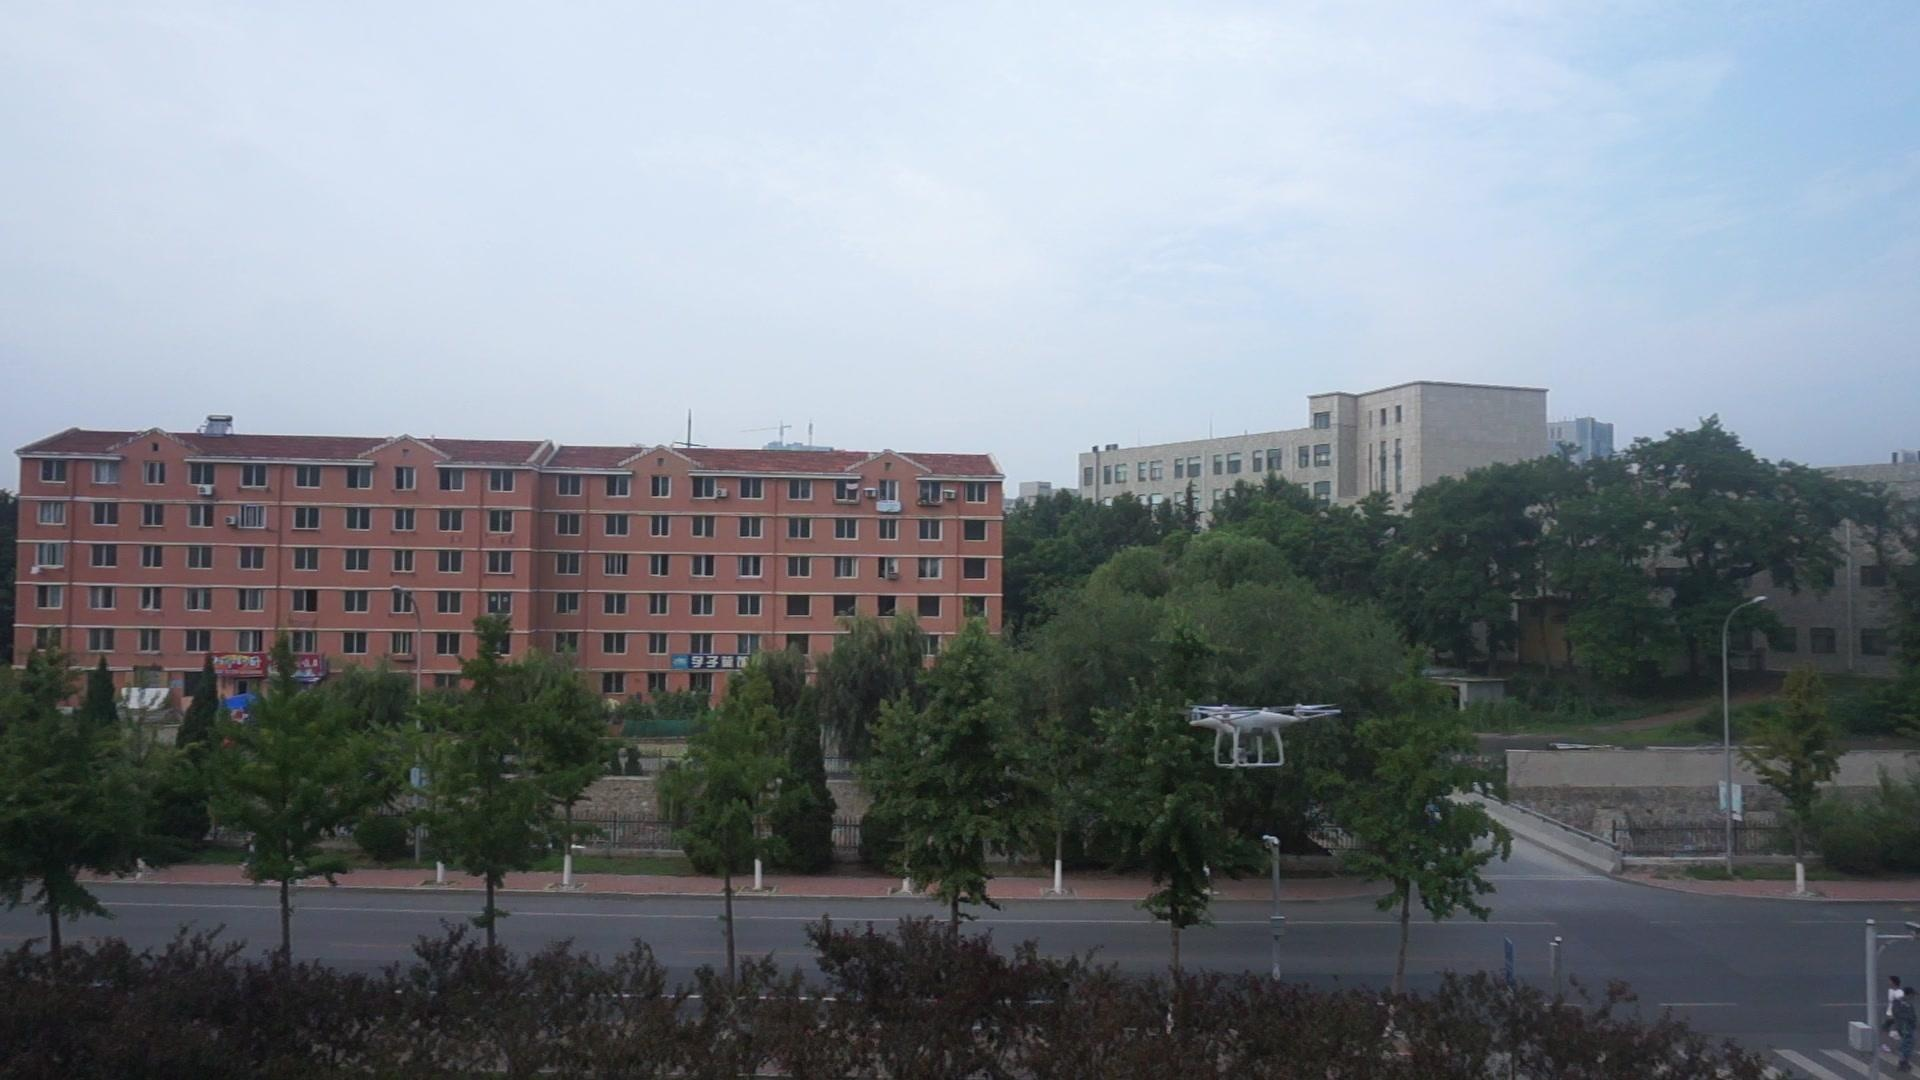UAV: (1179, 703, 1342, 767)
